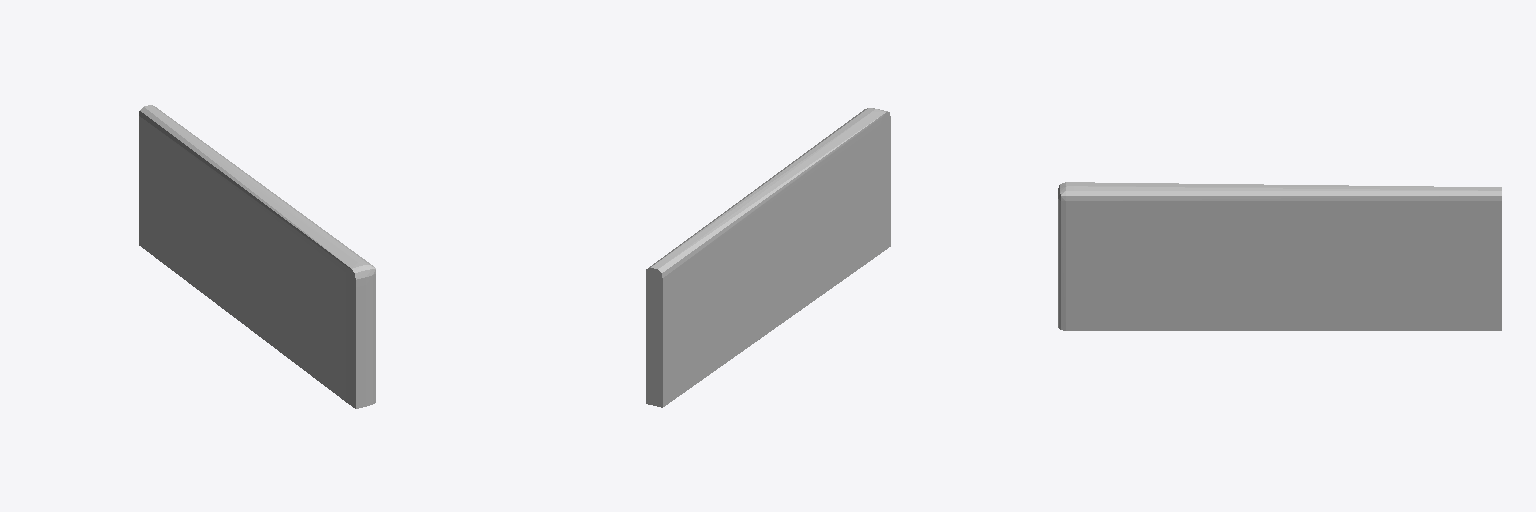
Rendered from ShipScene_collision_19.obj.
3 views of the same model, side by side, from view 1: azimuth 30°, elevation 25°; view 2: azimuth 150°, elevation 25°; view 3: azimuth 270°, elevation 25° (orthographic).
Bounding box in the file's own units: 15.98 × 92.24 × 269.